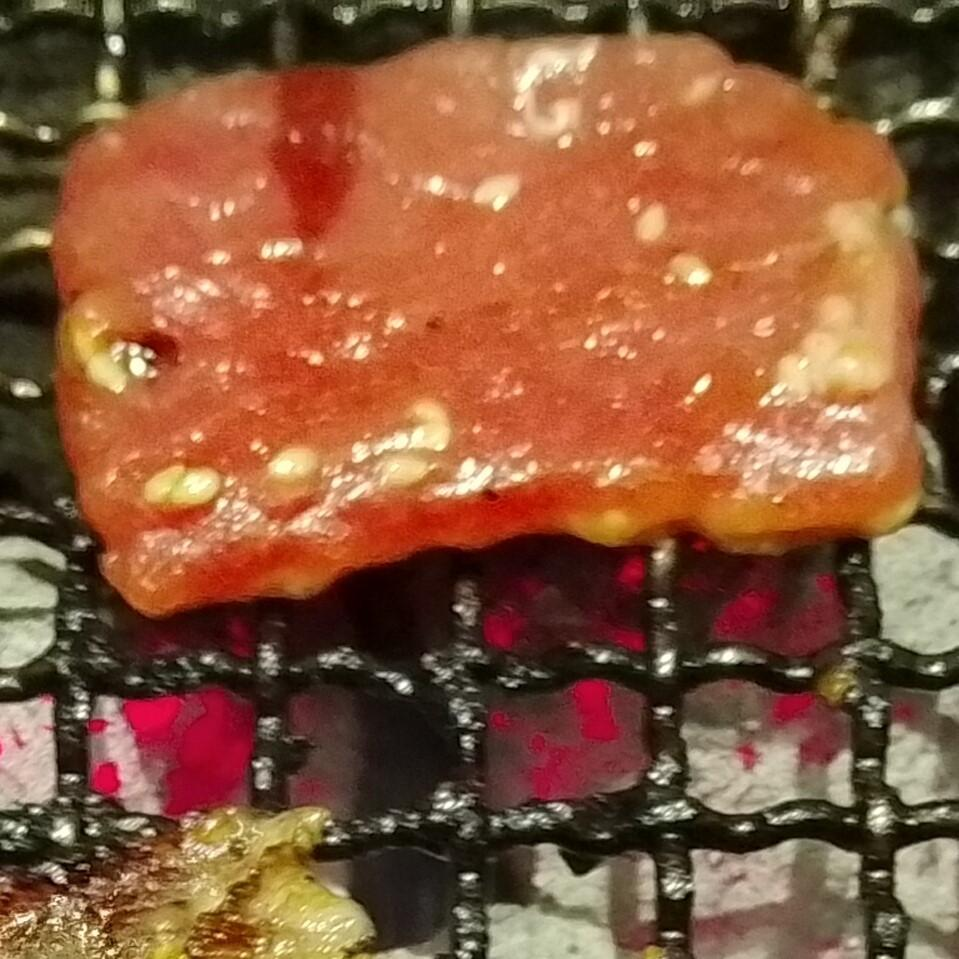Overcooked: (0, 810, 375, 958)
Undercooked: (49, 34, 928, 622)
